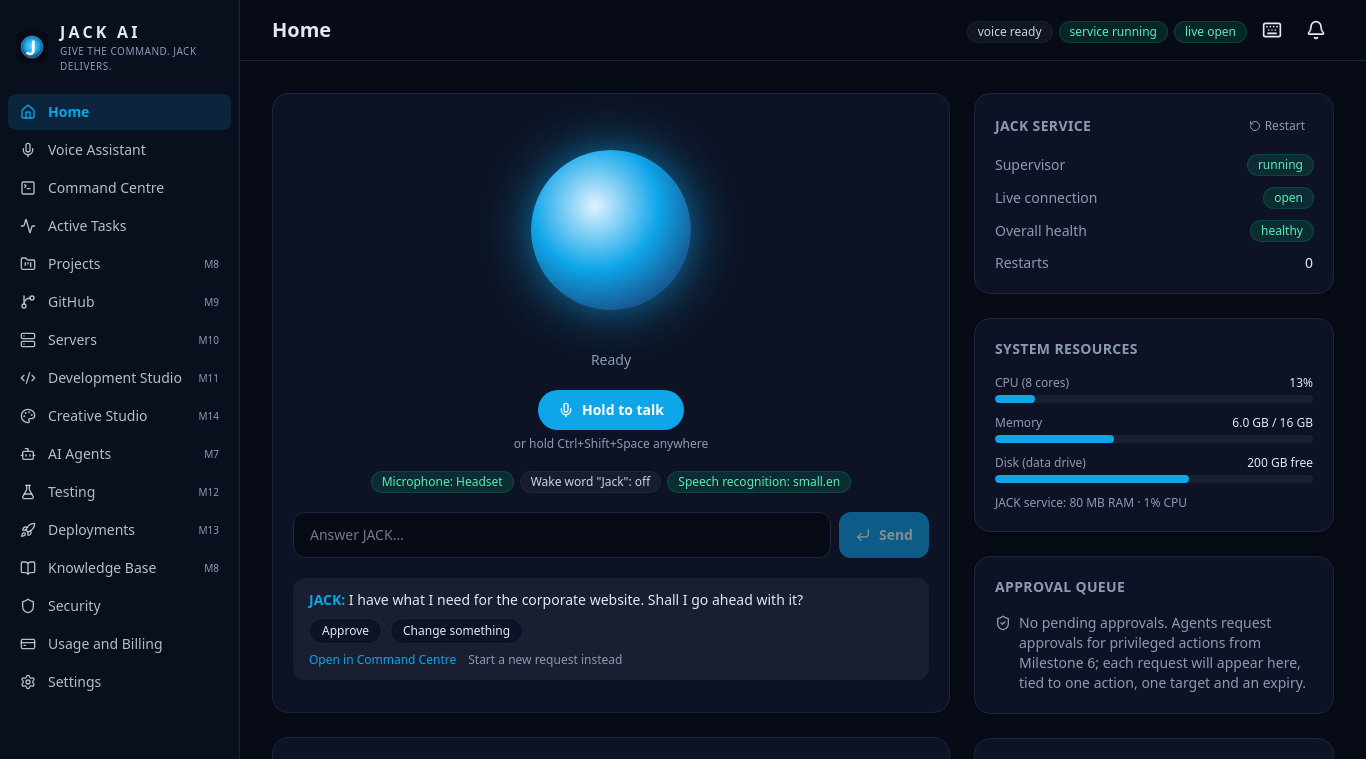
Test case: Command Centre (M5) › edits an assumption from the specification
Expected: the text "live open" is shown, [1175, 22, 1246, 42]
Press 6
(page scrolled)
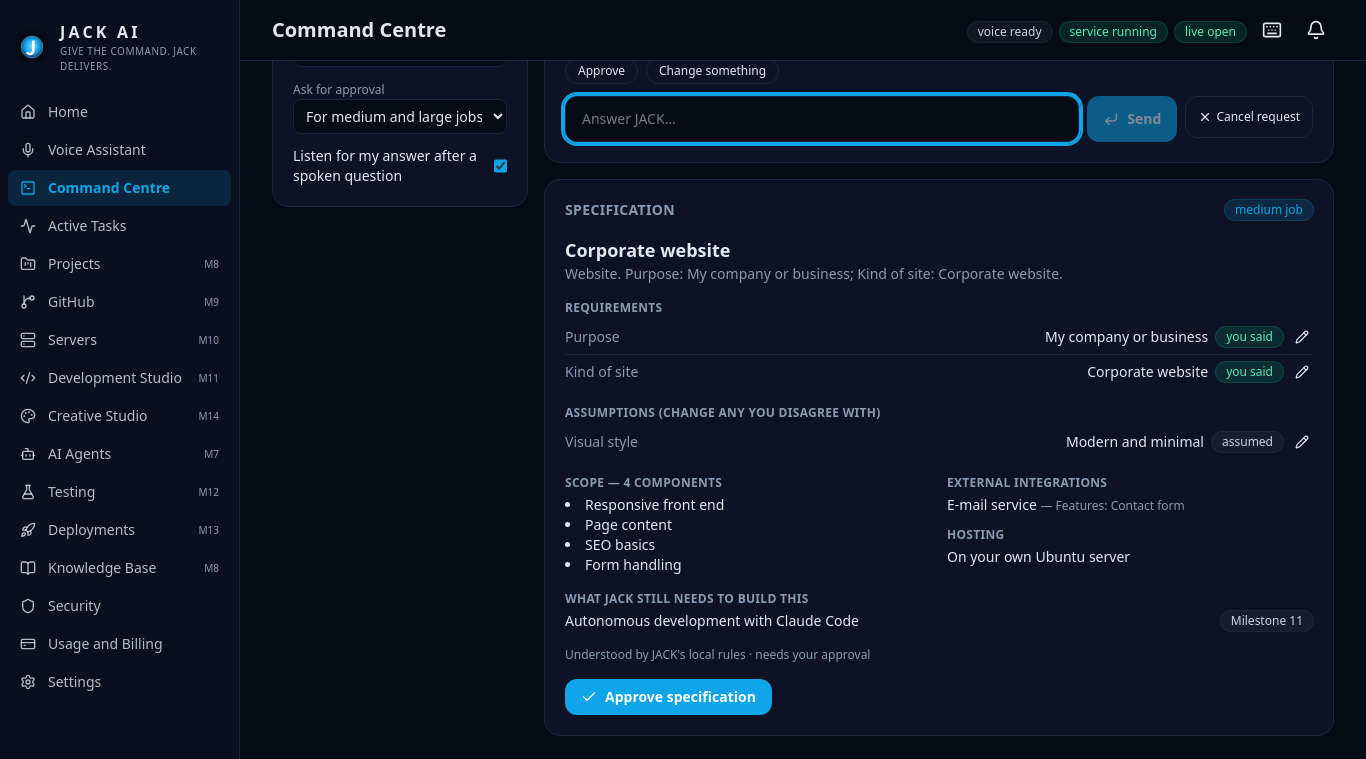
Expected: the heading "Corporate website" is shown, [565, 238, 730, 262]
Click the button named "Change Visual style" at [1302, 442], box [1291, 431, 1313, 453]
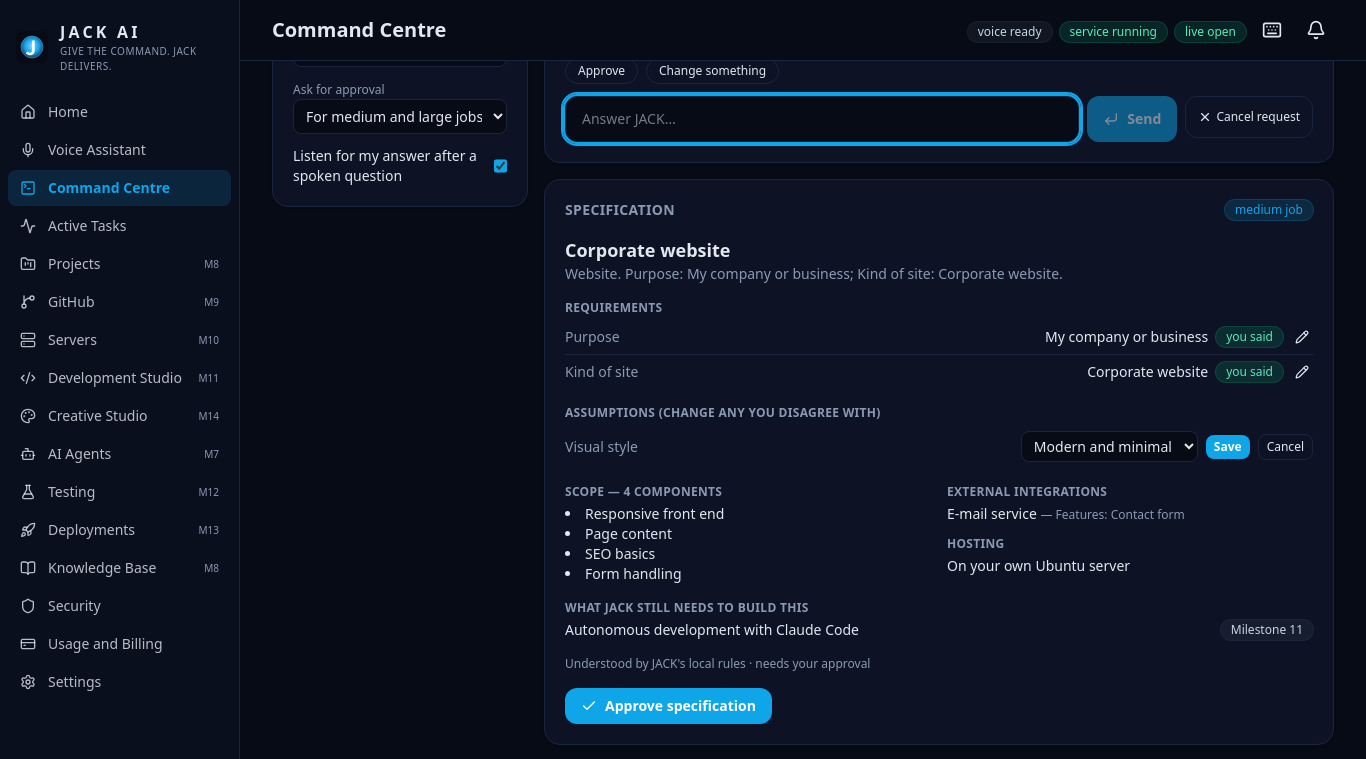
Select "Bold and colourful" in the dropdown named "Visual style" at [1109, 446], box [1021, 431, 1198, 462]
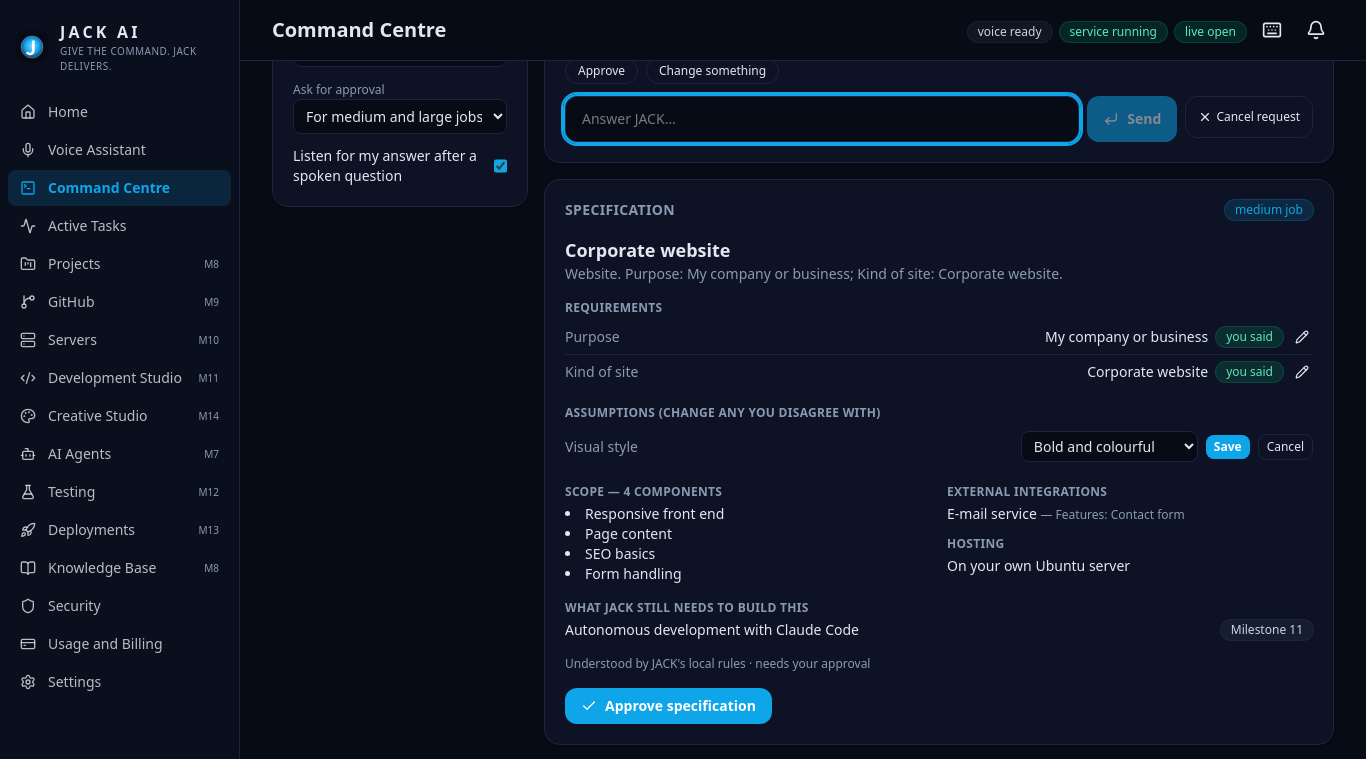
Click the button "Save" at [1228, 446], box [1206, 434, 1250, 458]
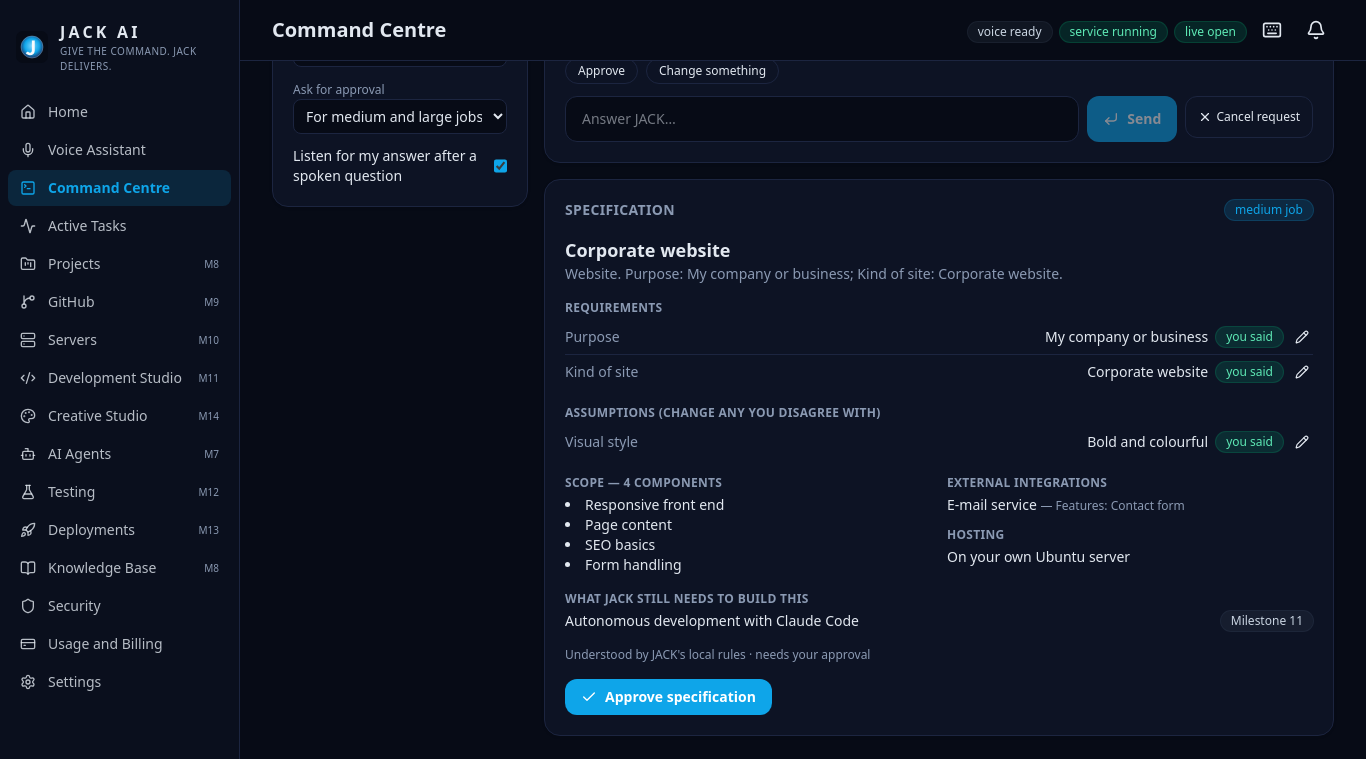
Expected: the text "Bold and colourful" is shown, [1087, 432, 1208, 452]
